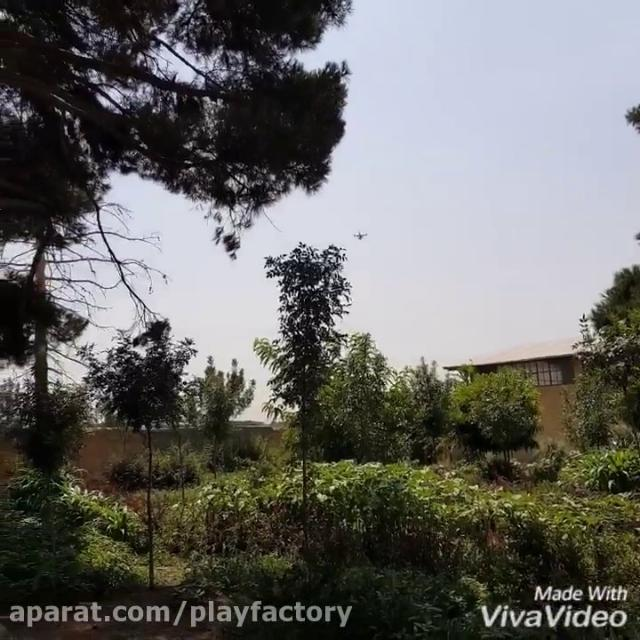drone: (350, 224, 372, 243)
